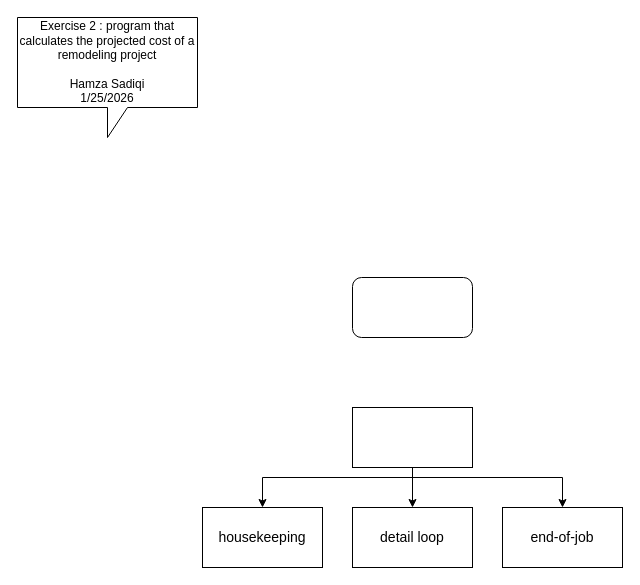
Some shapes in this 640 by 585 pixel diagram are drawn without their labels. The box of each missing label's shape, as (x1, y1, x2, y2) in pixels:
hierarchy chart: (352, 276, 472, 338)
main program: (352, 406, 472, 468)
